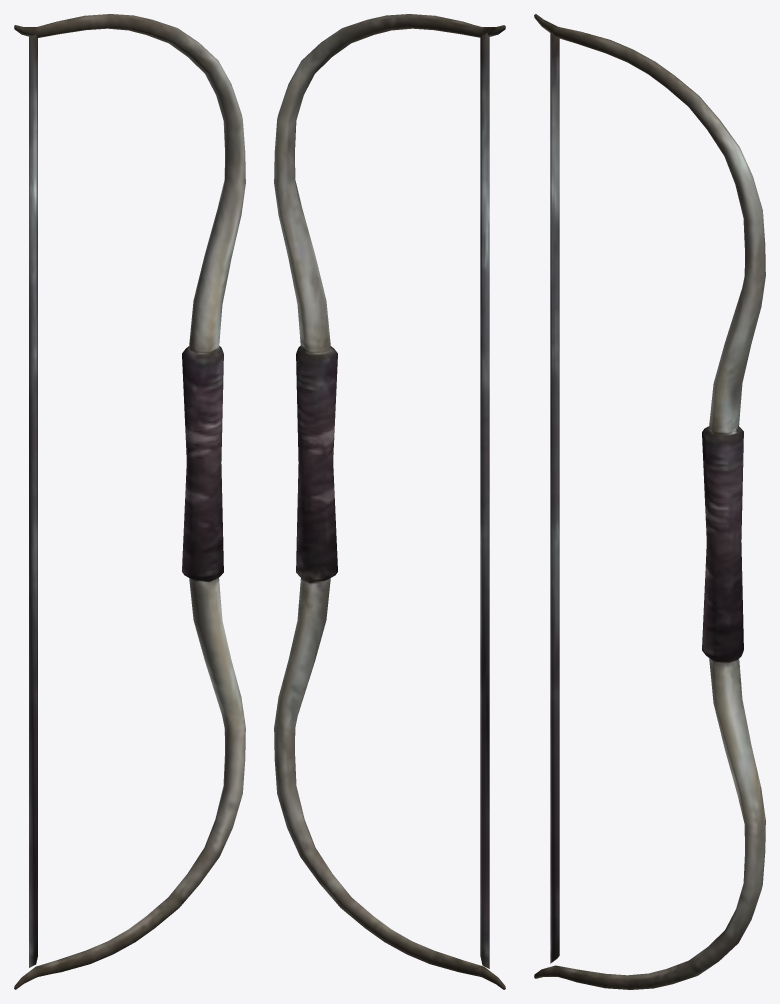
The model's file is weapon-pale-ash.glb.
The picture shows the model from 3 angles, left to right: view 1: azimuth 30°, elevation 25°; view 2: azimuth 150°, elevation 25°; view 3: azimuth 330°, elevation 25°; orthographic projection.
Parts seen in each view (by area): view 1: bowH_MDL_q; view 2: bowH_MDL_q; view 3: bowH_MDL_q.
Boxes of the visible parts, <box> form: bowH_MDL_q: <box>14,14,245,989</box>; bowH_MDL_q: <box>274,14,505,989</box>; bowH_MDL_q: <box>534,14,765,989</box>.
Bounding box in the file's own units: 0.4273 × 1.71 × 0.0617.
Materials: 1 (1 with a texture image).
